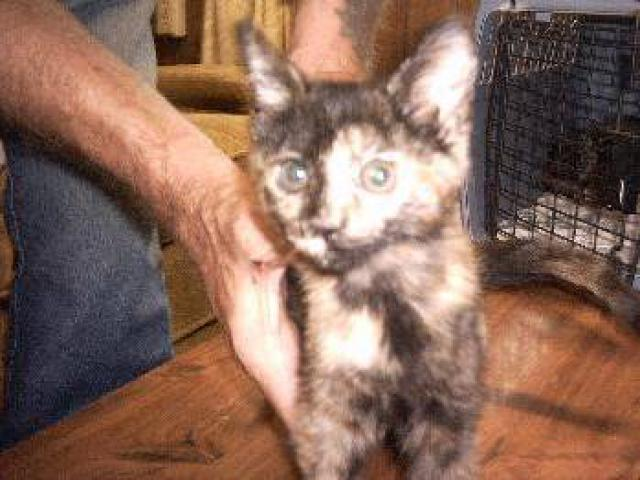cat: (213, 13, 495, 475)
